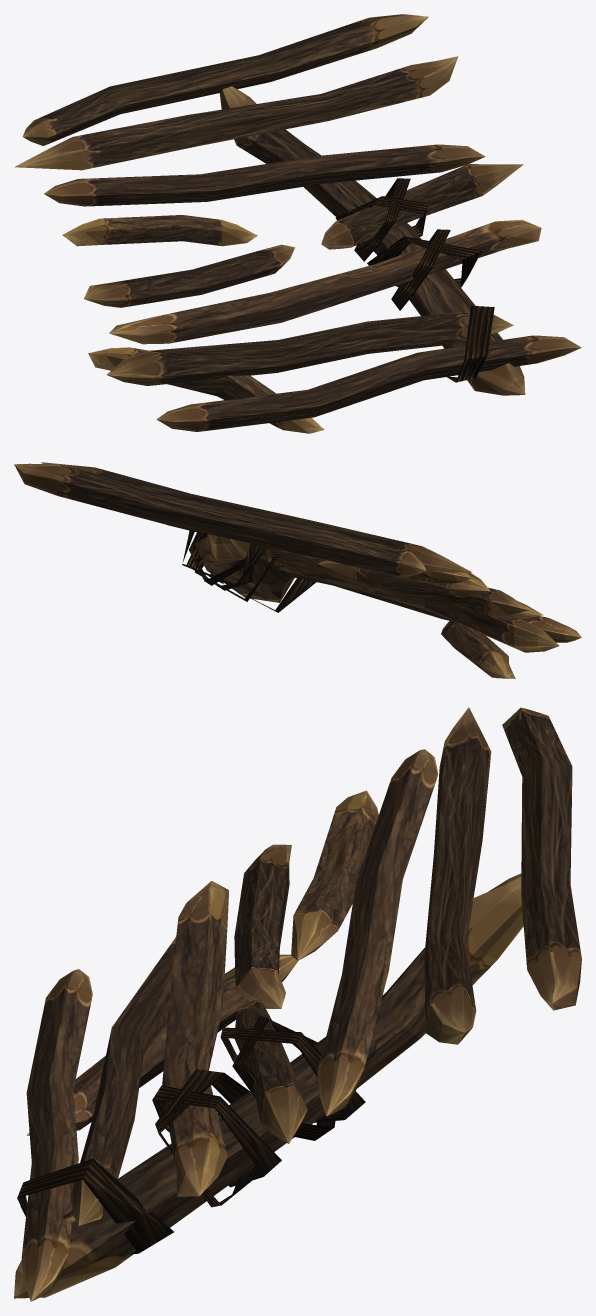
Rendered from lava_wallstair_straight_01.fbx.
3 views of the same model, one above another, from view 1: azimuth 30°, elevation 25°; view 2: azimuth 150°, elevation 25°; view 3: azimuth 270°, elevation 25° (orthographic). The views are drawn at different scales.
Visible parts, largest first — view 1: obj0.143; view 2: obj0.143; view 3: obj0.143.
Part boxes in pixels (x1,y1,x2,y2): obj0.143: (14, 14, 581, 433); obj0.143: (14, 462, 581, 678); obj0.143: (14, 707, 581, 1301).
Size of the model in its own units: 5.26 by 2.7 by 3.73.
